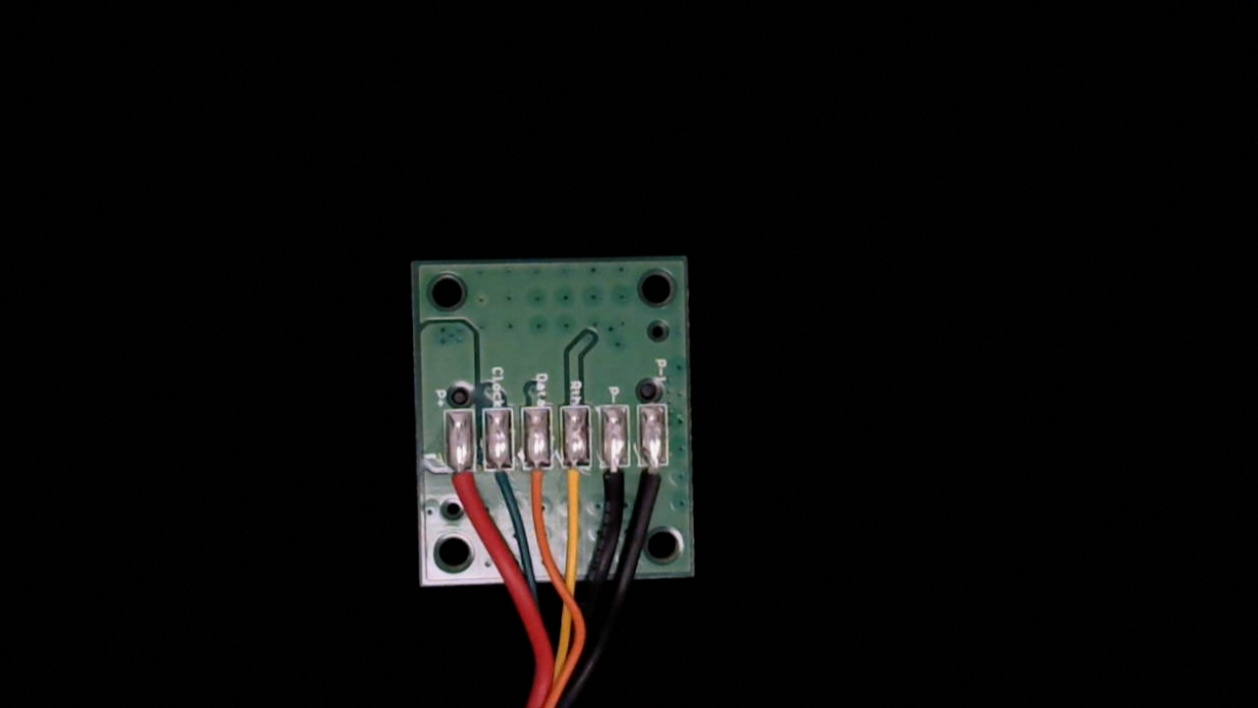Black: (598, 450, 633, 522)
Black1: (641, 448, 674, 514)
Green: (485, 449, 516, 507)
Orange: (524, 448, 556, 514)
Red: (447, 452, 481, 521)
Yellow: (560, 451, 594, 524)
